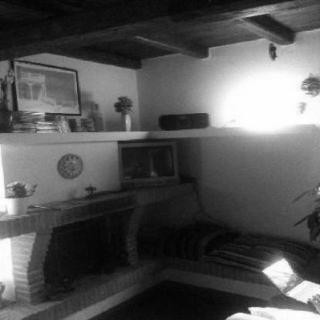other: (217, 72, 307, 140)
